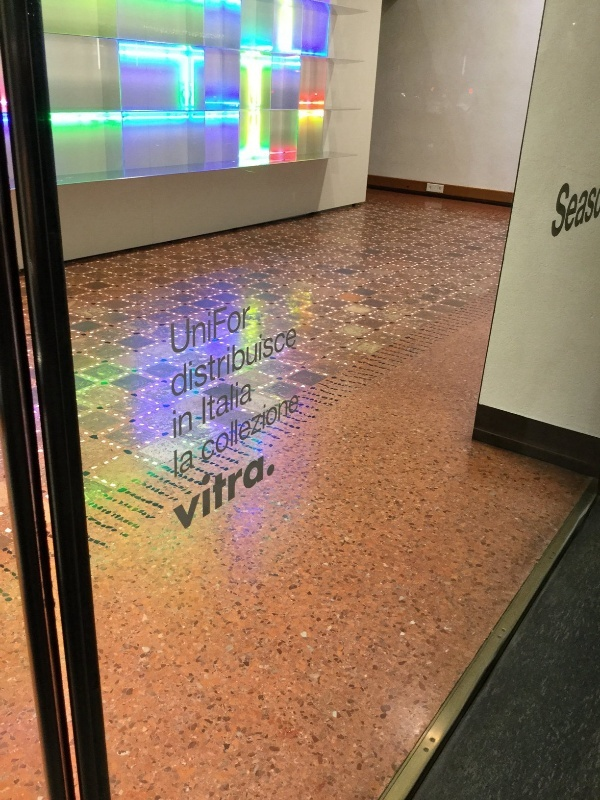text: (177, 433, 192, 536), (193, 433, 208, 536), (209, 433, 224, 536), (225, 433, 240, 536), (241, 433, 256, 536), (257, 433, 272, 536), (177, 320, 192, 404), (193, 320, 208, 404), (209, 320, 224, 404), (225, 320, 240, 404), (241, 320, 256, 404), (257, 320, 272, 404), (273, 320, 288, 404), (209, 384, 224, 468), (225, 384, 240, 468), (241, 384, 256, 468), (257, 384, 272, 468), (273, 384, 288, 468), (561, 170, 576, 245), (577, 170, 592, 245), (289, 384, 300, 468), (177, 298, 192, 357), (193, 298, 208, 357), (209, 298, 224, 357), (225, 298, 240, 357), (241, 298, 254, 357), (209, 376, 224, 427), (225, 376, 240, 427), (289, 320, 298, 404), (169, 433, 176, 536), (241, 376, 253, 427), (552, 170, 560, 245), (169, 320, 176, 404), (201, 384, 208, 468), (177, 404, 192, 442), (177, 443, 192, 481), (593, 170, 600, 245), (170, 298, 176, 357), (273, 433, 276, 536), (202, 376, 208, 427), (171, 404, 176, 442), (193, 443, 197, 481), (173, 443, 176, 481), (193, 404, 194, 442)
